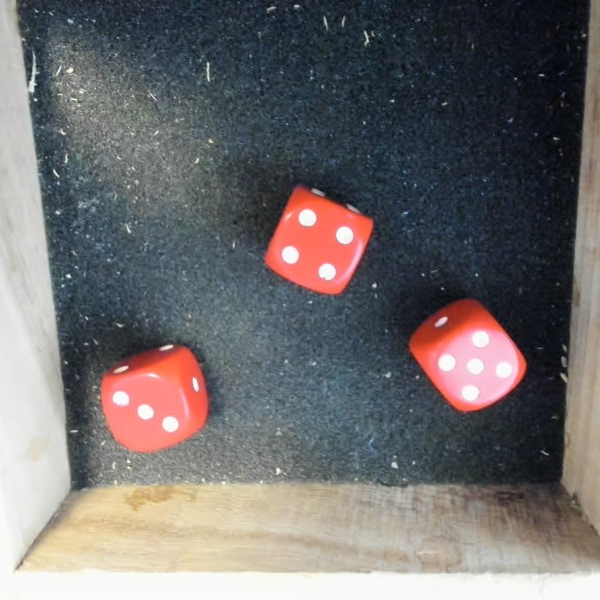red_die_pip3: (87, 330, 227, 463)
red_die_pip4: (260, 169, 386, 305)
red_die_pip5: (394, 286, 537, 430)
